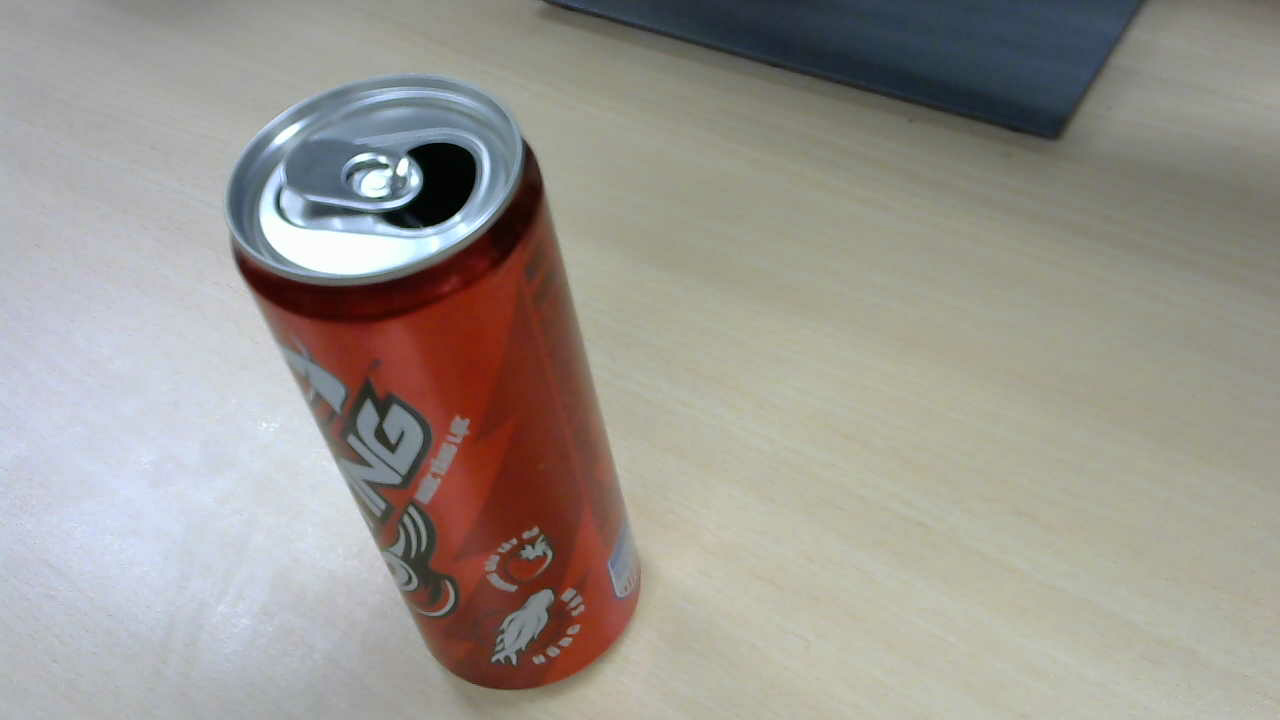Sting: (225, 80, 643, 695)
